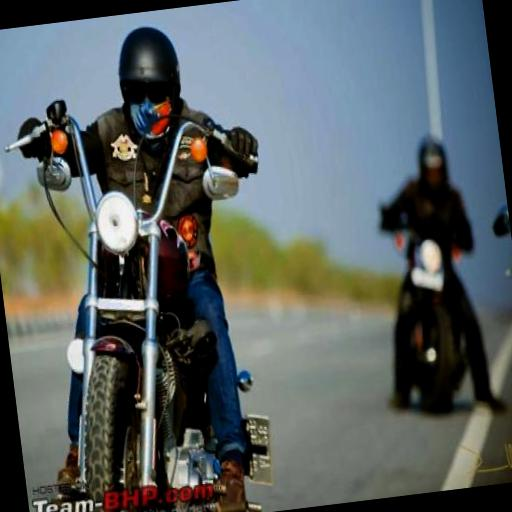helmet: (4, 4, 283, 480)
